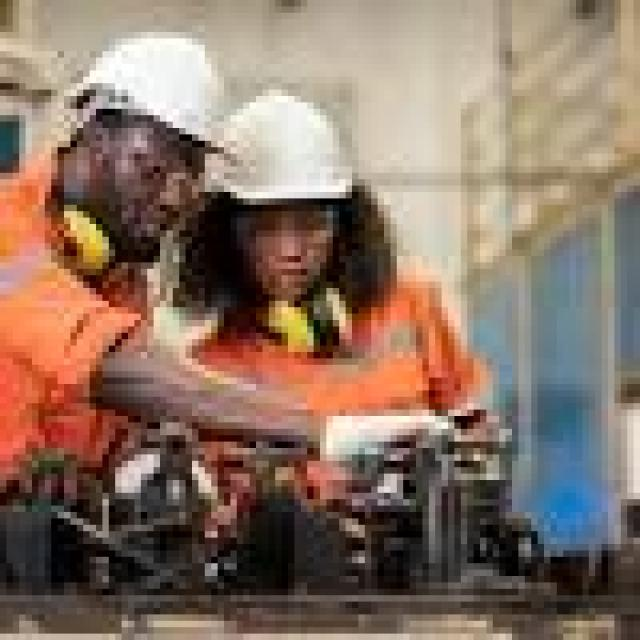Reflective-Jacket: (179, 256, 486, 486), (0, 134, 115, 525)
Safety-Helmet: (192, 77, 378, 230), (58, 13, 243, 166)
